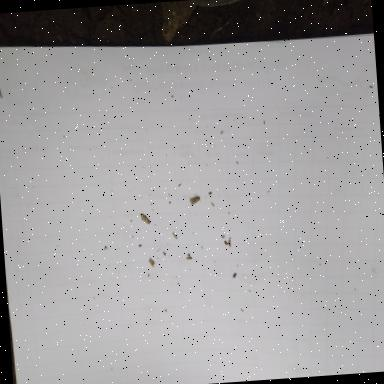pbw: (188, 192, 201, 204), (139, 212, 150, 225), (227, 236, 231, 249), (172, 232, 178, 239), (148, 258, 154, 264), (186, 256, 192, 260)
